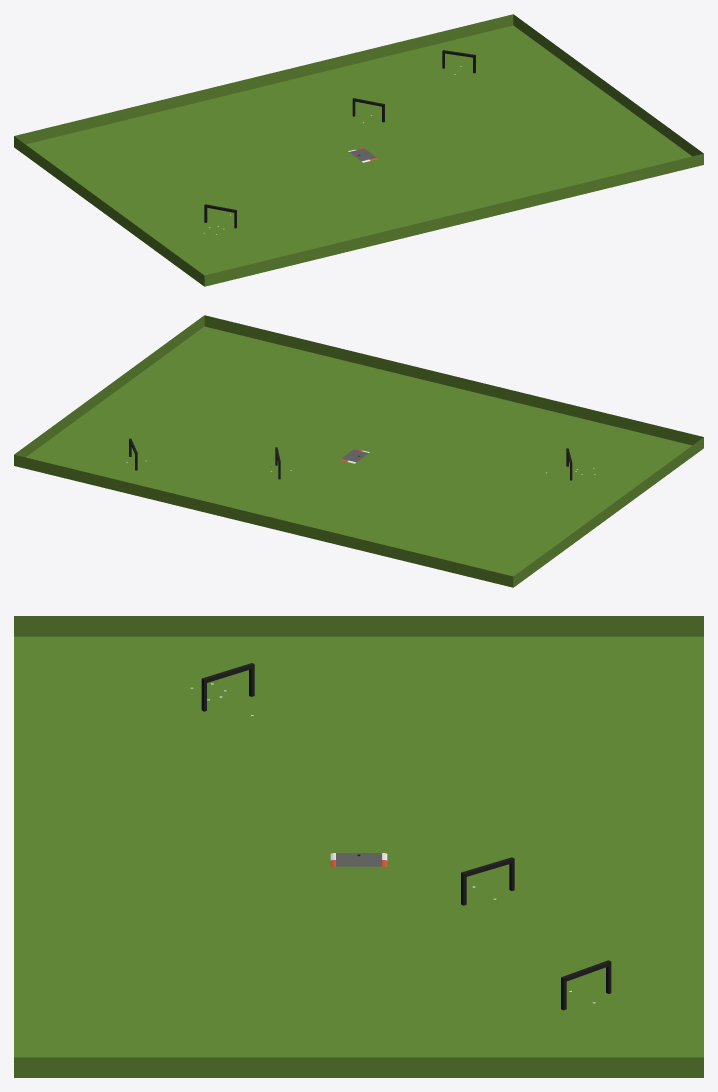
Rendered from ferrari-track.gltf.
The picture shows the model from 3 angles, top to bottom: view 1: azimuth 30°, elevation 25°; view 2: azimuth 150°, elevation 25°; view 3: azimuth 270°, elevation 25°; orthographic projection. The views are drawn at different scales.
Visible parts, largest first — view 1: ground; view 2: ground; view 3: ground, road.
Part boxes in pixels (x1,y1,x2,y2): ground: (14,14,703,286); ground: (14,315,703,587); ground: (14,616,703,1077); road: (330,853,387,867).
Bounding box in the file's own units: 783 × 34.54 × 517.
Materials: 2 (2 with a texture image).
